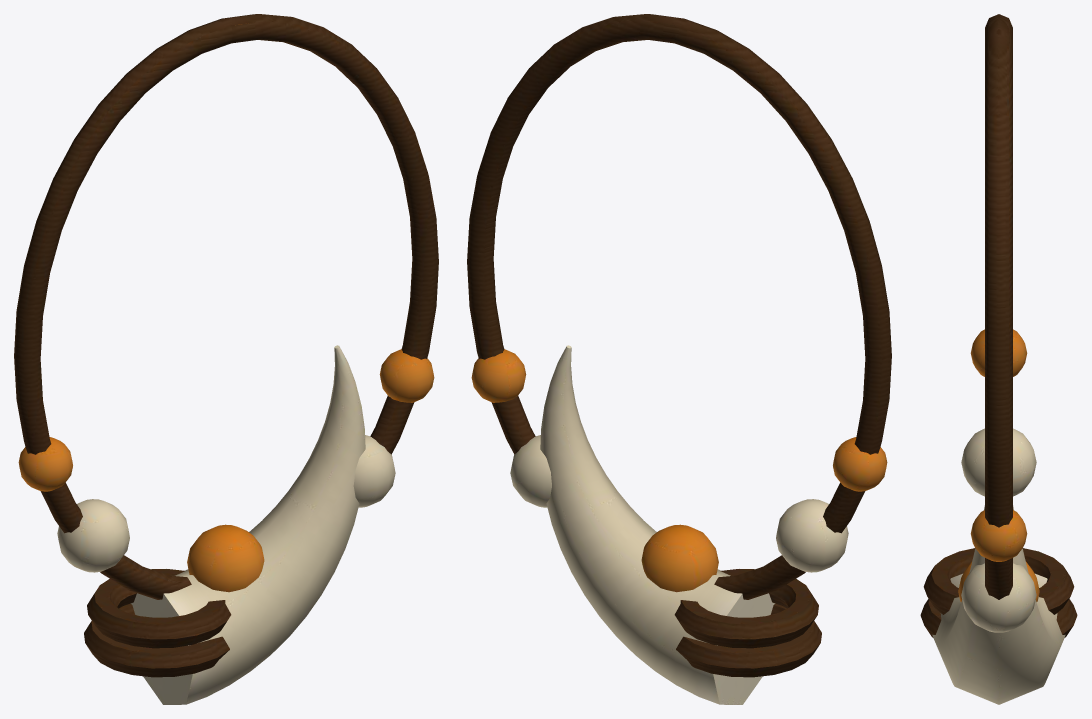
File: bone_charm.glb
3 views of the same model, side by side, from view 1: azimuth 30°, elevation 25°; view 2: azimuth 150°, elevation 25°; view 3: azimuth 270°, elevation 25° (orthographic). The views are drawn at different scales.
Visible parts, largest first — view 1: bone_charm; view 2: bone_charm; view 3: bone_charm.
Part boxes in pixels (x1,y1,x2,y2): bone_charm: (14,14,438,704); bone_charm: (467,14,891,704); bone_charm: (920,14,1077,704).
Bounding box in the file's own units: 0.159 × 0.2415 × 0.05.
Materials: 1 (1 with a texture image).
